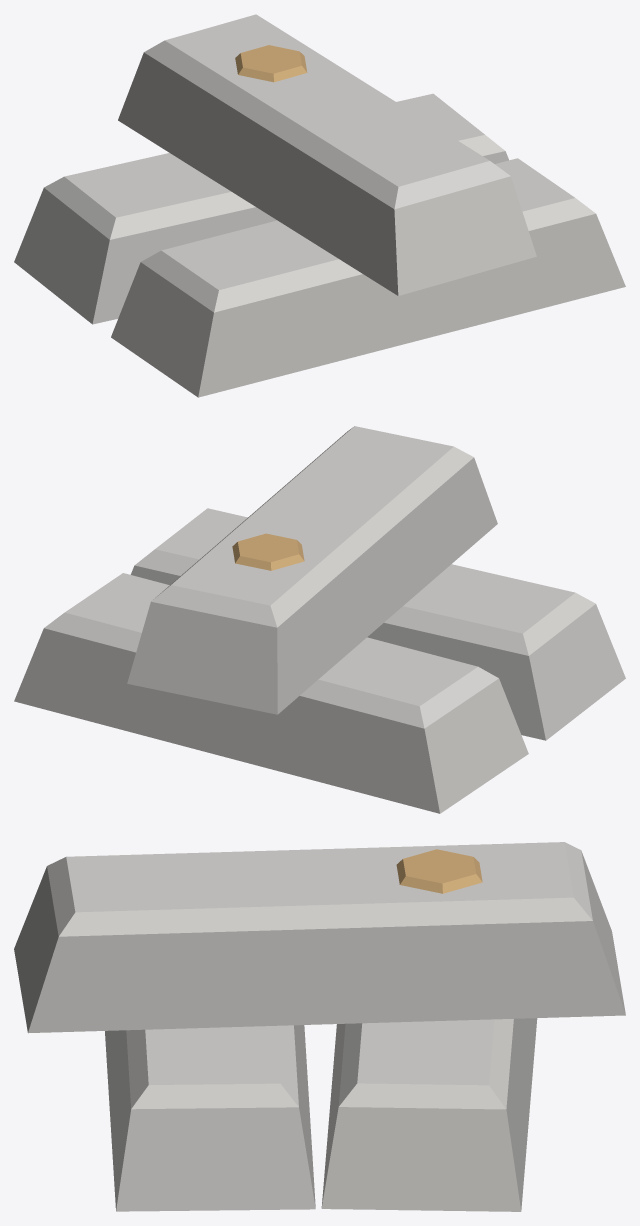
Rendered from it-bar.glb.
The picture shows the model from 3 angles, top to bottom: view 1: azimuth 30°, elevation 25°; view 2: azimuth 150°, elevation 25°; view 3: azimuth 270°, elevation 25°; orthographic projection. The views are drawn at different scales.
Visible parts, largest first — view 1: ingot_top, ingot_bottom_l, ingot_bottom_r, stamp; view 2: ingot_top, ingot_bottom_r, ingot_bottom_l, stamp; view 3: ingot_top, ingot_bottom_r, ingot_bottom_l, stamp.
Boxes of the visible parts, bbox=[...] form: ingot_top: bbox=[118, 14, 536, 295]; ingot_bottom_l: bbox=[111, 158, 625, 397]; ingot_bottom_r: bbox=[14, 93, 508, 324]; stamp: bbox=[235, 45, 307, 82]; ingot_top: bbox=[127, 426, 497, 714]; ingot_bottom_r: bbox=[14, 573, 528, 813]; ingot_bottom_l: bbox=[130, 508, 625, 740]; stamp: bbox=[232, 533, 304, 570]; ingot_top: bbox=[14, 842, 625, 1033]; ingot_bottom_r: bbox=[321, 1018, 537, 1211]; ingot_bottom_l: bbox=[105, 1025, 315, 1211]; stamp: bbox=[396, 849, 482, 893].
Size of what is drawn, in the model's own units: 0.3033 by 0.12 by 0.3062.
